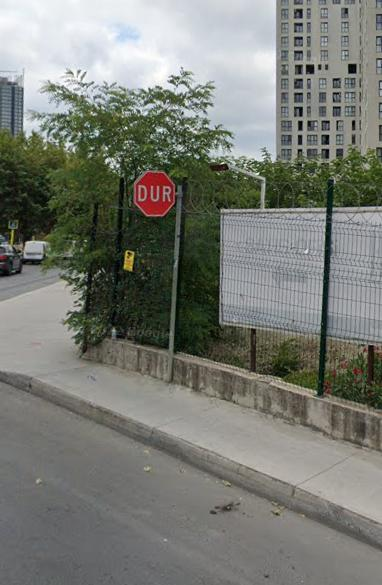stop: (134, 171, 175, 216)
